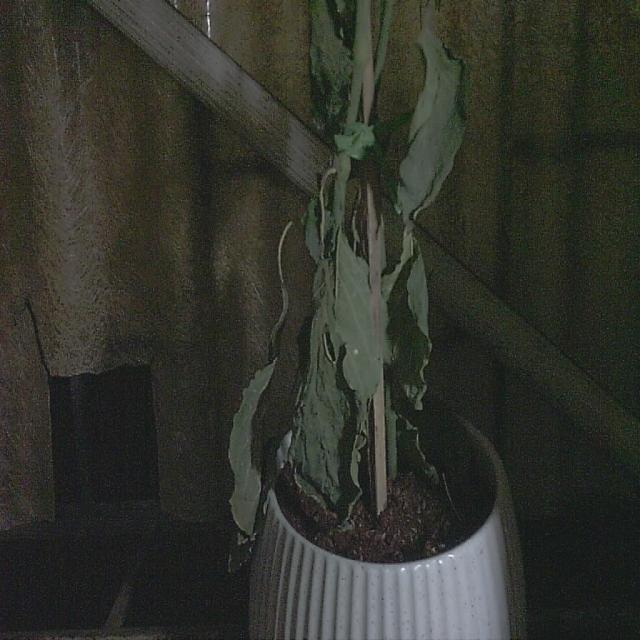Leaf: (291, 256, 362, 524), (226, 289, 289, 576), (392, 27, 472, 230)
